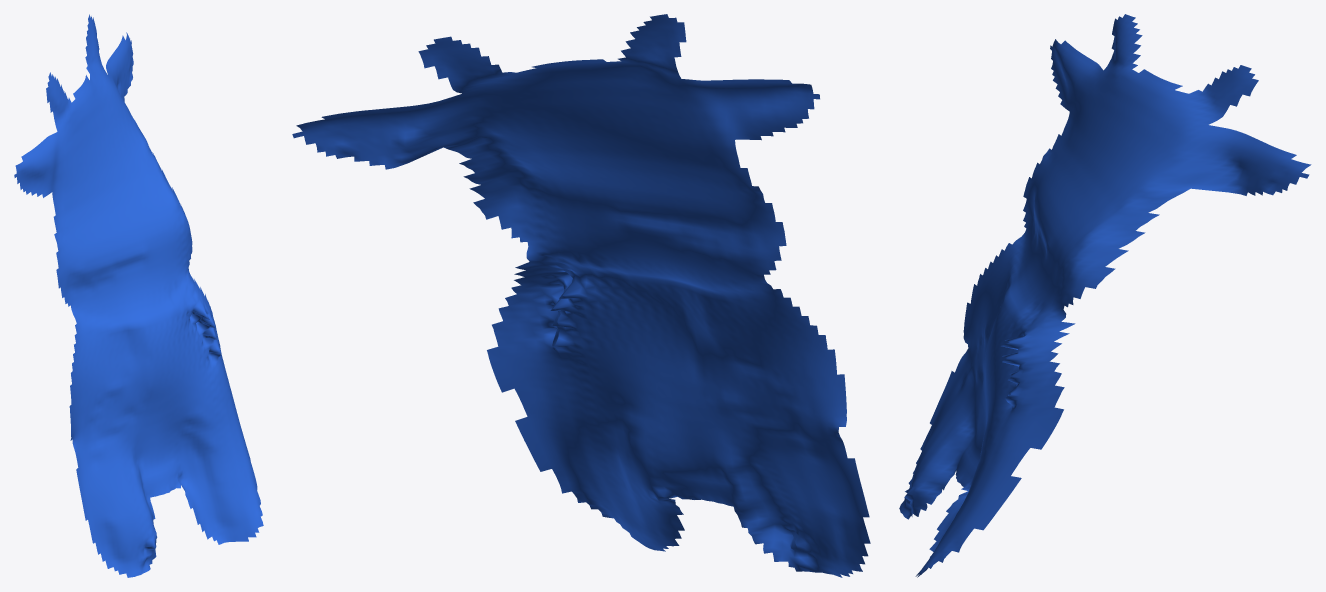
The model's file is spot_SFS.glb.
3 views of the same model, side by side, from view 1: azimuth 30°, elevation 25°; view 2: azimuth 150°, elevation 25°; view 3: azimuth 270°, elevation 25° (orthographic). The views are drawn at different scales.
Visible parts, largest first — view 1: main-sfs-spot; view 2: main-sfs-spot; view 3: main-sfs-spot.
Part boxes in pixels (x1,y1,x2,y2): main-sfs-spot: (14,14,263,577); main-sfs-spot: (292,14,870,577); main-sfs-spot: (899,14,1311,577).
Size of the model in its own units: 0.69 by 1.24 by 0.927.
